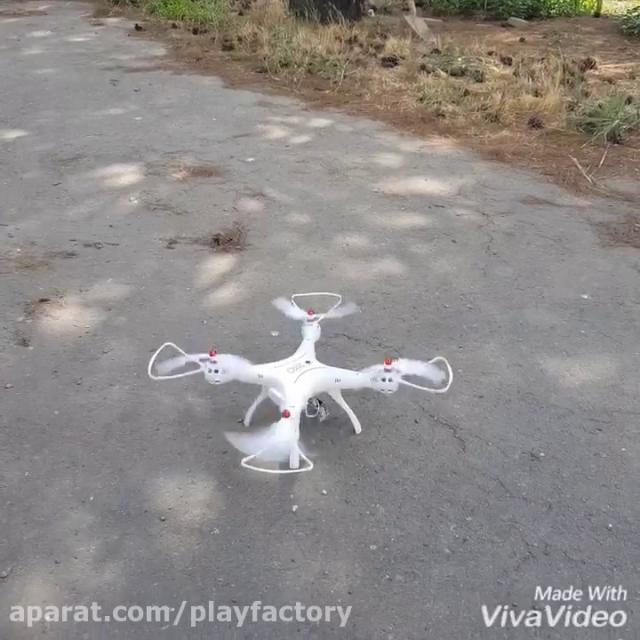drone: (143, 289, 457, 476)
